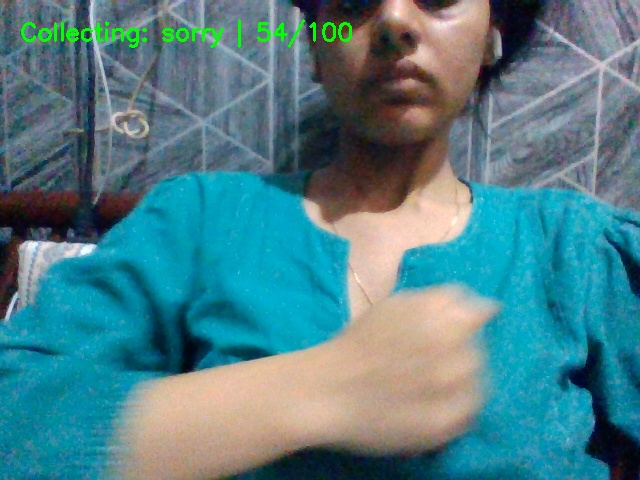sorry: (304, 270, 503, 466)
